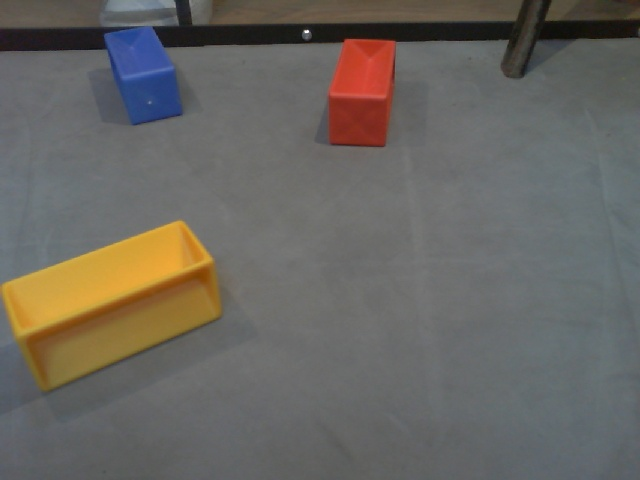BlueSample: (100, 24, 185, 130)
RedSample: (325, 35, 397, 151)
YellowSample: (1, 215, 221, 392)
